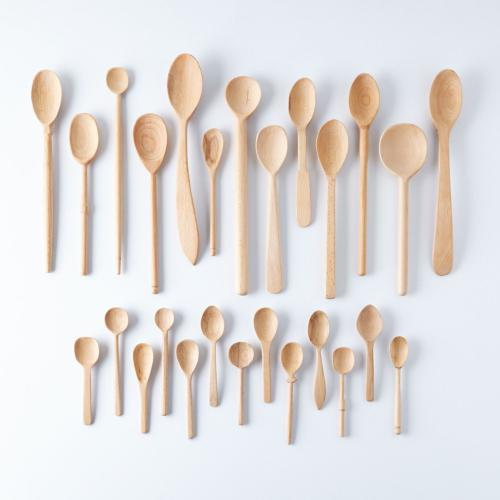Spoon: (379, 122, 427, 295), (225, 75, 261, 296), (167, 52, 203, 265), (429, 68, 462, 276), (31, 69, 63, 272), (348, 73, 380, 276), (133, 113, 168, 294), (316, 119, 348, 299), (256, 124, 287, 293), (69, 112, 99, 275), (106, 66, 128, 275), (288, 77, 316, 228), (202, 128, 223, 256), (104, 307, 128, 415), (356, 303, 382, 401), (280, 341, 303, 444), (201, 305, 224, 407), (74, 336, 100, 425), (254, 307, 278, 403), (176, 339, 199, 439), (228, 341, 254, 426), (154, 307, 174, 415), (308, 310, 329, 410), (333, 346, 355, 437), (132, 342, 153, 433), (389, 335, 408, 434)
